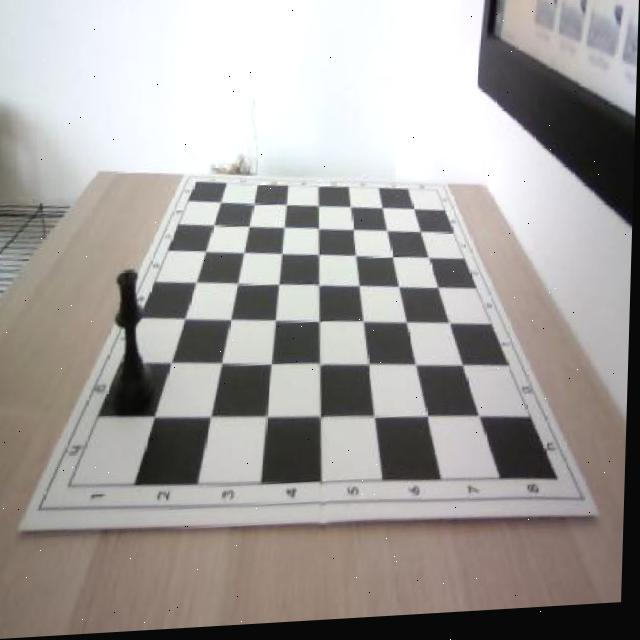black-pawn: (115, 266, 161, 412)
